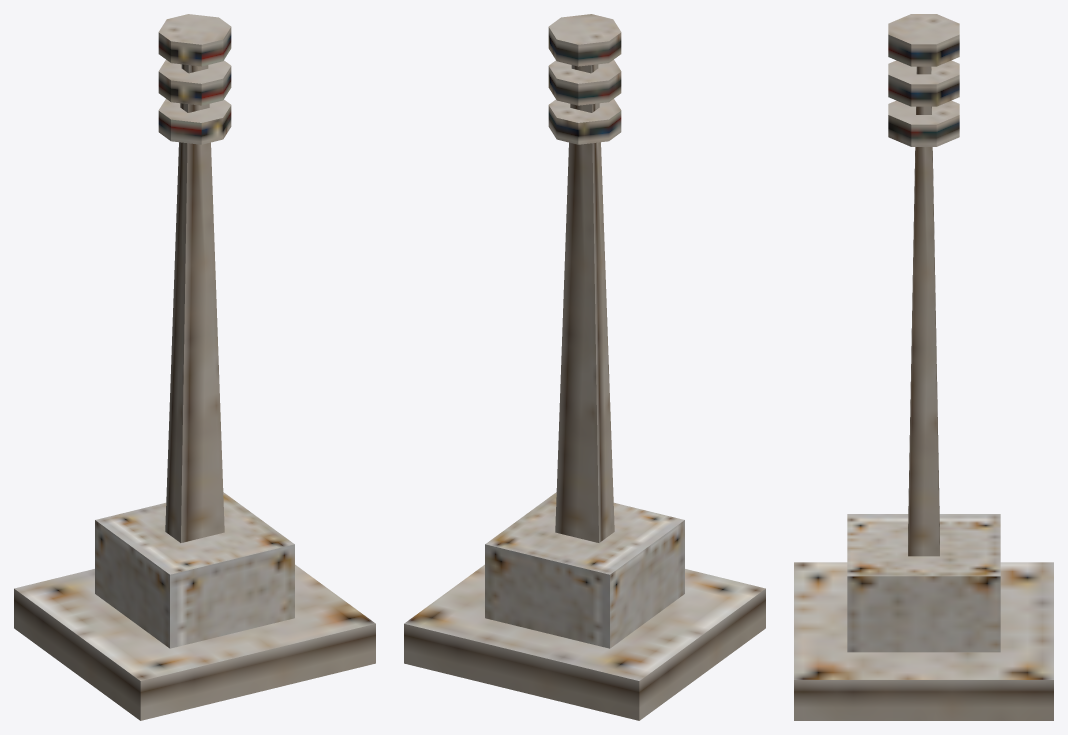
Rendered from SM_ElectricityBoxAntenna_01.fbx.
3 renders of one model, left to right at view 1: azimuth 30°, elevation 25°; view 2: azimuth 150°, elevation 25°; view 3: azimuth 270°, elevation 25°, orthographic. The views are drawn at different scales.
Parts seen in each view (by area): view 1: Cube.004; view 2: Cube.004; view 3: Cube.004.
Part boxes in pixels (x1,y1,x2,y2): Cube.004: (14,14,375,720); Cube.004: (404,14,765,720); Cube.004: (794,14,1053,720).
Bounding box in the file's own units: 30.42 × 76.14 × 28.33.
Materials: 1 (1 with a texture image).
